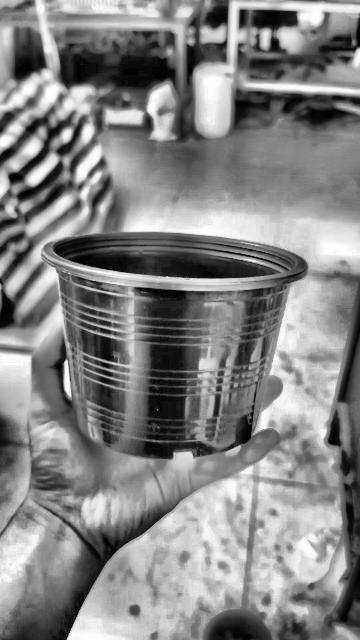pot: (43, 232, 307, 458)
